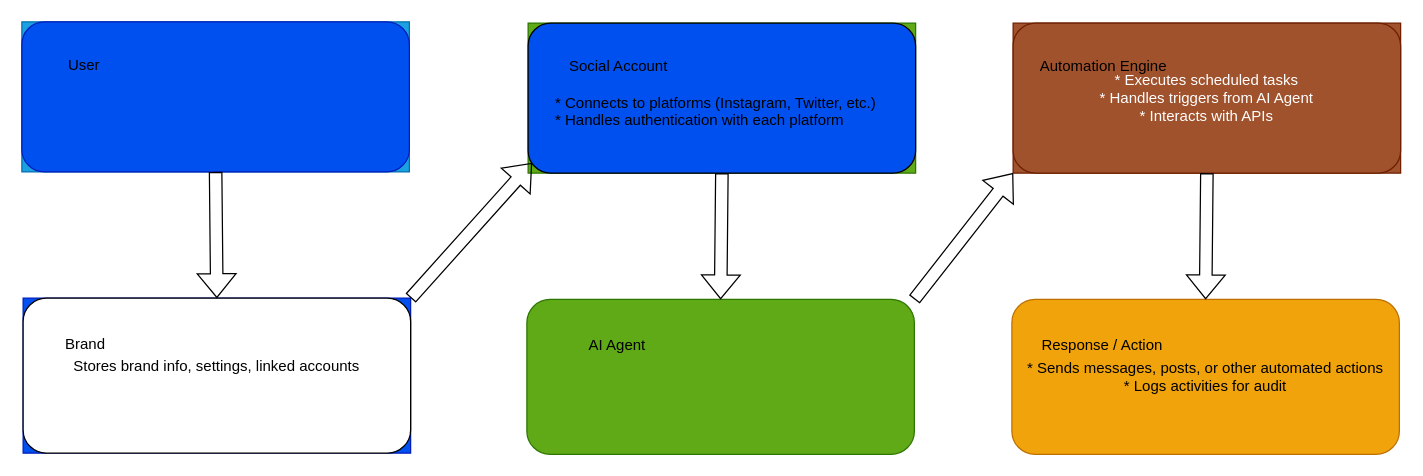
Some shapes in this 1423 by 476 pixel diagram are drawn without their labels. The box of each missing label's shape, as (x1, y1, x2, y2) in pixels:
* Monitors activities * Generates actions or responses * Maintains state: (526, 298, 914, 454)
Manages users, authentication, profiles: (21, 21, 409, 172)
